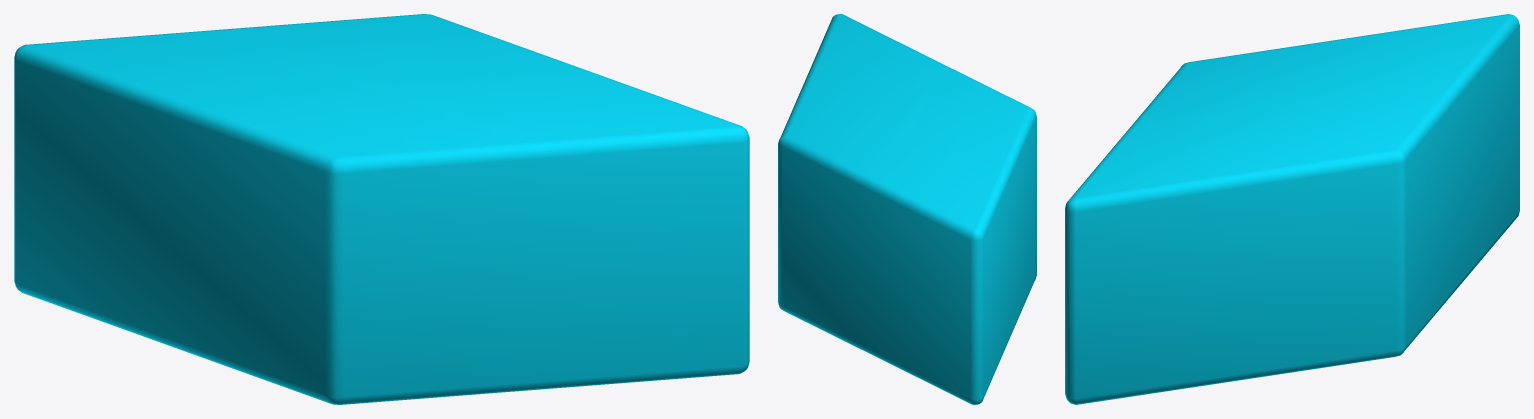
Rendered from RhombusSmall_1.fbx.
3 renders of one model, left to right at view 1: azimuth 30°, elevation 25°; view 2: azimuth 150°, elevation 25°; view 3: azimuth 270°, elevation 25°, orthographic. The views are drawn at different scales.
Parts seen in each view (by area): view 1: Cube.008; view 2: Cube.008; view 3: Cube.008.
Part boxes in pixels (bbox=[...]): Cube.008: bbox=[14, 14, 749, 404]; Cube.008: bbox=[778, 14, 1036, 404]; Cube.008: bbox=[1065, 14, 1519, 404].
Size of the model in its own units: 400 by 200 by 400.
